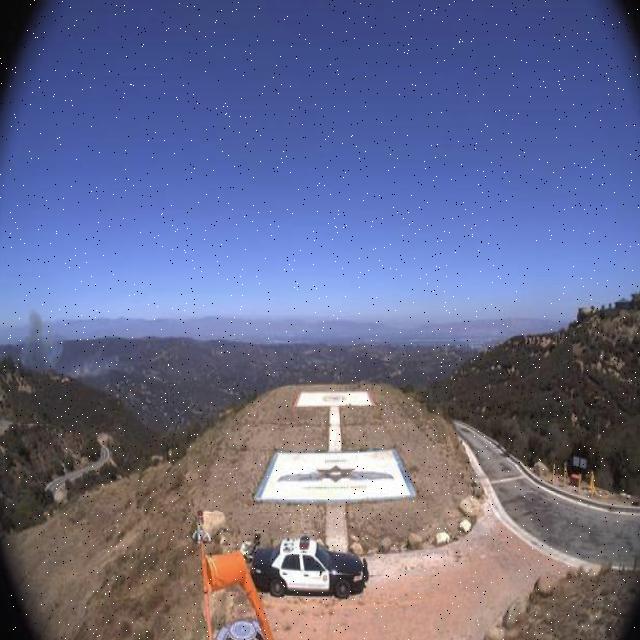smoke: (15, 301, 144, 388)
